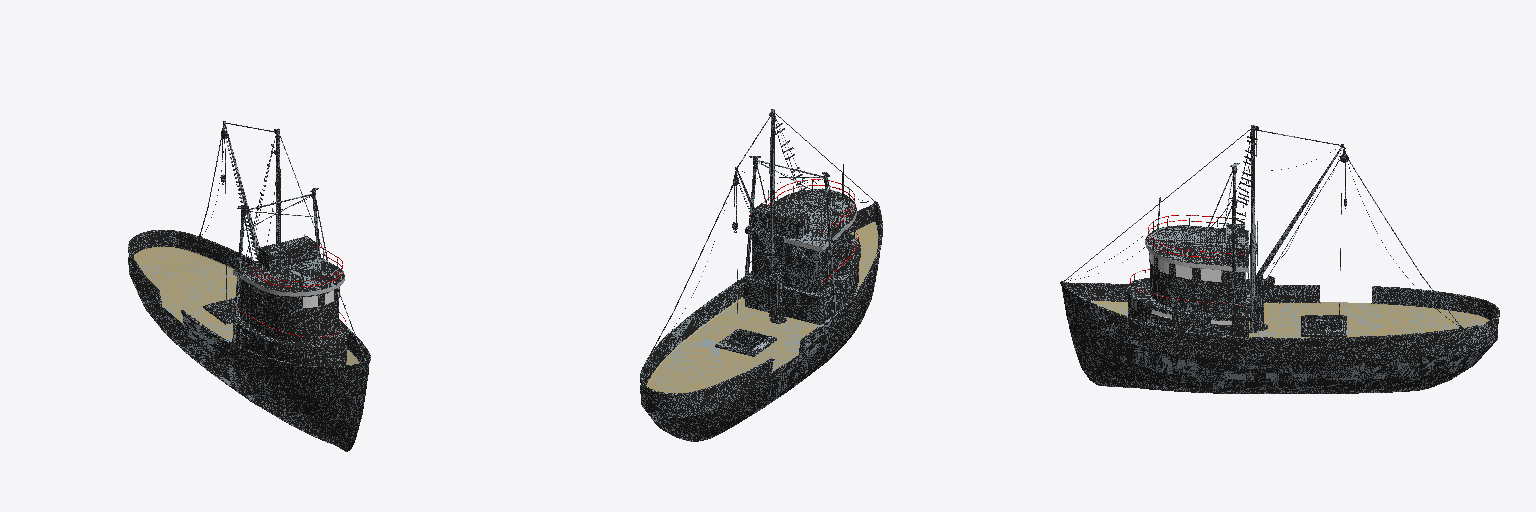
The picture shows the model from 3 angles: view 1: azimuth 30°, elevation 25°; view 2: azimuth 150°, elevation 25°; view 3: azimuth 270°, elevation 25°; orthographic projection.
Parts seen in each view (by area): view 1: Mesh22 smdimport_1_1 skpE4AD1 Model, Mesh24 smdimport_1_1 skpE4AD1 Model, Mesh128 smdimport_1_1 skpE4AD1 Model; view 2: Mesh22 smdimport_1_1 skpE4AD1 Model, Mesh24 smdimport_1_1 skpE4AD1 Model, Mesh128 smdimport_1_1 skpE4AD1 Model, Mesh89 smdimport_1_1 skpE4AD1 Model, Mesh65 smdimport_1_1 skpE4AD1 Model; view 3: Mesh22 smdimport_1_1 skpE4AD1 Model, Mesh24 smdimport_1_1 skpE4AD1 Model, Mesh89 smdimport_1_1 skpE4AD1 Model, Mesh65 smdimport_1_1 skpE4AD1 Model, Mesh95 smdimport_1_1 skpE4AD1 Model, Mesh128 smdimport_1_1 skpE4AD1 Model.
Part boxes in pixels (x1,y1,x2,y2): Mesh22 smdimport_1_1 skpE4AD1 Model: (128,230,370,451); Mesh24 smdimport_1_1 skpE4AD1 Model: (231,256,348,365); Mesh128 smdimport_1_1 skpE4AD1 Model: (259,236,316,270); Mesh22 smdimport_1_1 skpE4AD1 Model: (640,203,882,441); Mesh24 smdimport_1_1 skpE4AD1 Model: (743,189,860,324); Mesh128 smdimport_1_1 skpE4AD1 Model: (752,203,809,238); Mesh89 smdimport_1_1 skpE4AD1 Model: (769,109,774,316); Mesh65 smdimport_1_1 skpE4AD1 Model: (715,329,776,356); Mesh22 smdimport_1_1 skpE4AD1 Model: (1060,282,1499,393); Mesh24 smdimport_1_1 skpE4AD1 Model: (1126,225,1249,336); Mesh89 smdimport_1_1 skpE4AD1 Model: (1249,125,1256,332); Mesh65 smdimport_1_1 skpE4AD1 Model: (1301,315,1346,336); Mesh95 smdimport_1_1 skpE4AD1 Model: (1256,147,1345,280); Mesh128 smdimport_1_1 skpE4AD1 Model: (1226,224,1244,264).
Size of the model in its own units: 1.53 by 3.53 by 5.23.